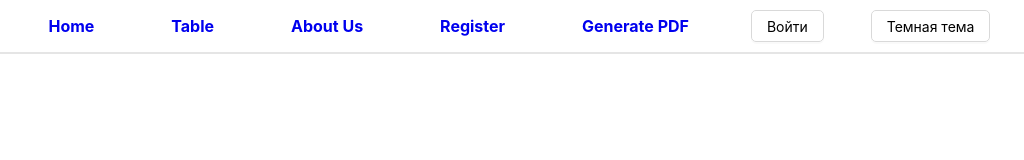
Header › Кнопка выхода
What coordinates should you click on to do the following:
click the button with test id "auth"
I would click on:
 (787, 26)
Its box is [751,10,824,42].
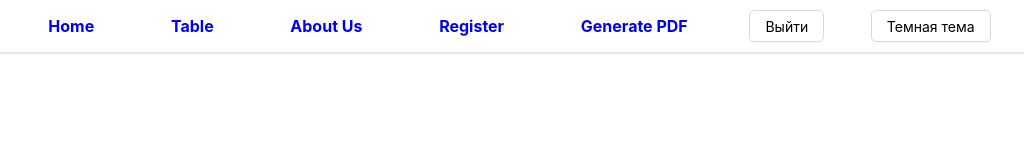
What coordinates should you click on to do the following:
click the button with test id "auth"
I would click on:
 (787, 26)
Its box is [749,10,824,42].
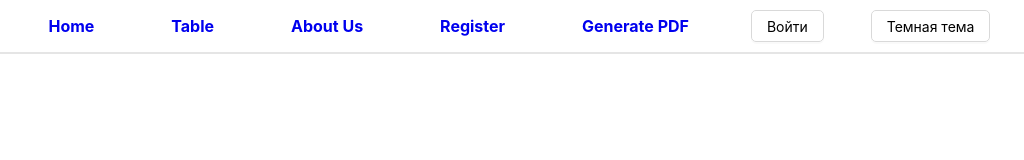
Check: the button with test id "auth" reads "Войти", box [751,10,824,42]
